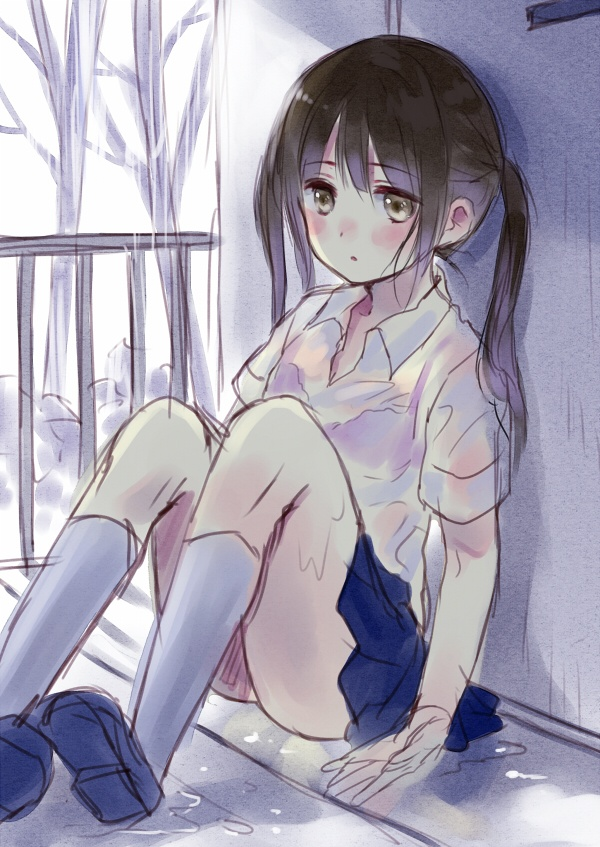纸片人正脸: (254, 35, 514, 294)
